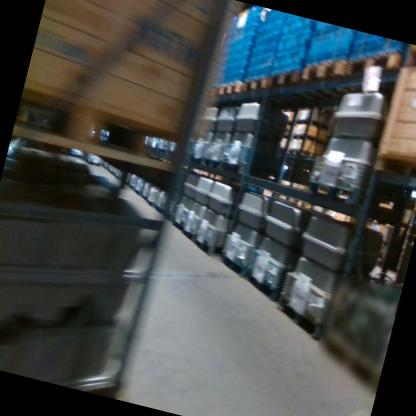pallet: (11, 83, 184, 180), (270, 289, 332, 342), (344, 42, 404, 88), (301, 49, 350, 90), (244, 266, 285, 300), (267, 63, 303, 93), (216, 252, 254, 279), (191, 231, 225, 259), (241, 71, 270, 98), (219, 155, 247, 176), (217, 78, 244, 99), (285, 144, 314, 159), (293, 114, 319, 130), (290, 130, 317, 145), (200, 155, 222, 170)
small_load_carrier: (325, 25, 355, 63), (307, 27, 332, 65), (280, 14, 316, 40), (290, 25, 313, 52), (286, 45, 309, 71), (271, 47, 290, 73), (276, 31, 294, 56), (313, 21, 334, 41)
